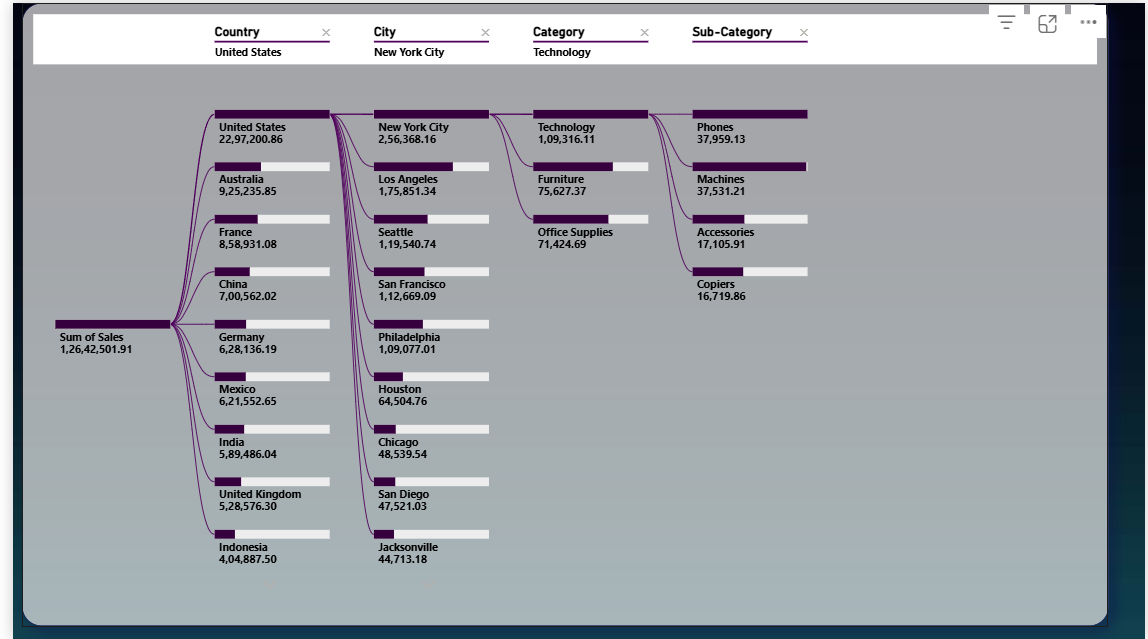

This screenshot's page, from the dashboard's own definition file:
{"tool":"powerbi","page":{"name":"Decomposition Chart","canvas":[1280,720],"ordinal":2},"visuals":[{"type":"decompositionTreeVisual","fields":{"Analyze":["Sum(Orders.Sales)"],"ExplainBy":["Orders.Country","Orders.City","Orders.Category","Orders.Sub-Category"]},"box":[9.8,0,1228,704.3],"z":0}]}

Visuals, with their boxes on the page's 1280x720 design canvas (x1, y1, x2, y2). These are canvas units, not pixel positions in the 1148x639 screenshot, which may show the page scaled, cropped or inside an application window:
decompositionTreeVisual - Sum(Orders.Sales) x Orders.Country: Rect(10, 0, 1238, 704)
